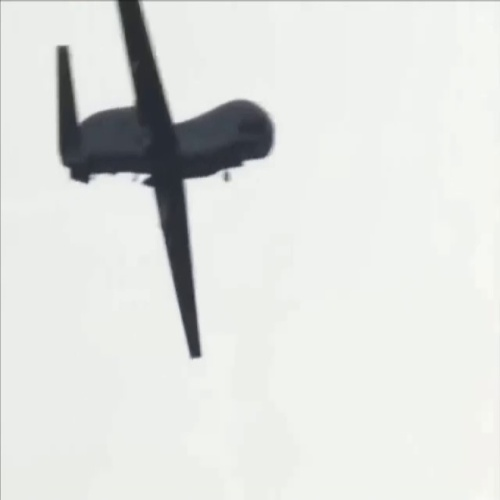uav: (51, 1, 281, 360)
